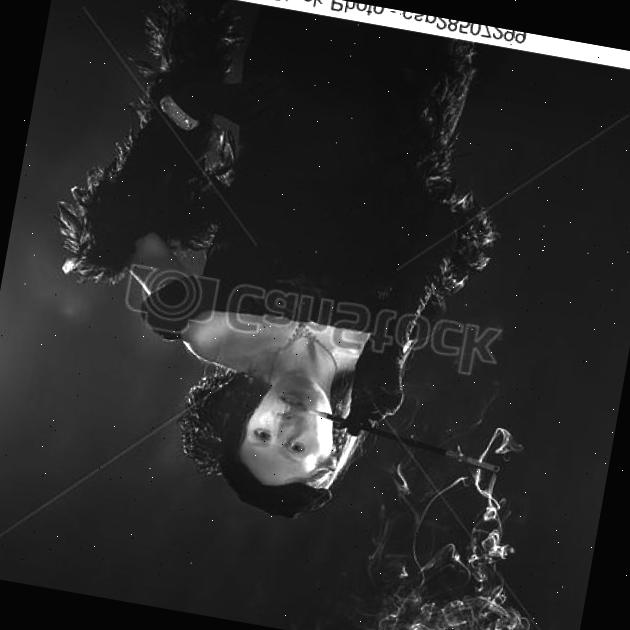smoke: (372, 412, 581, 630)
